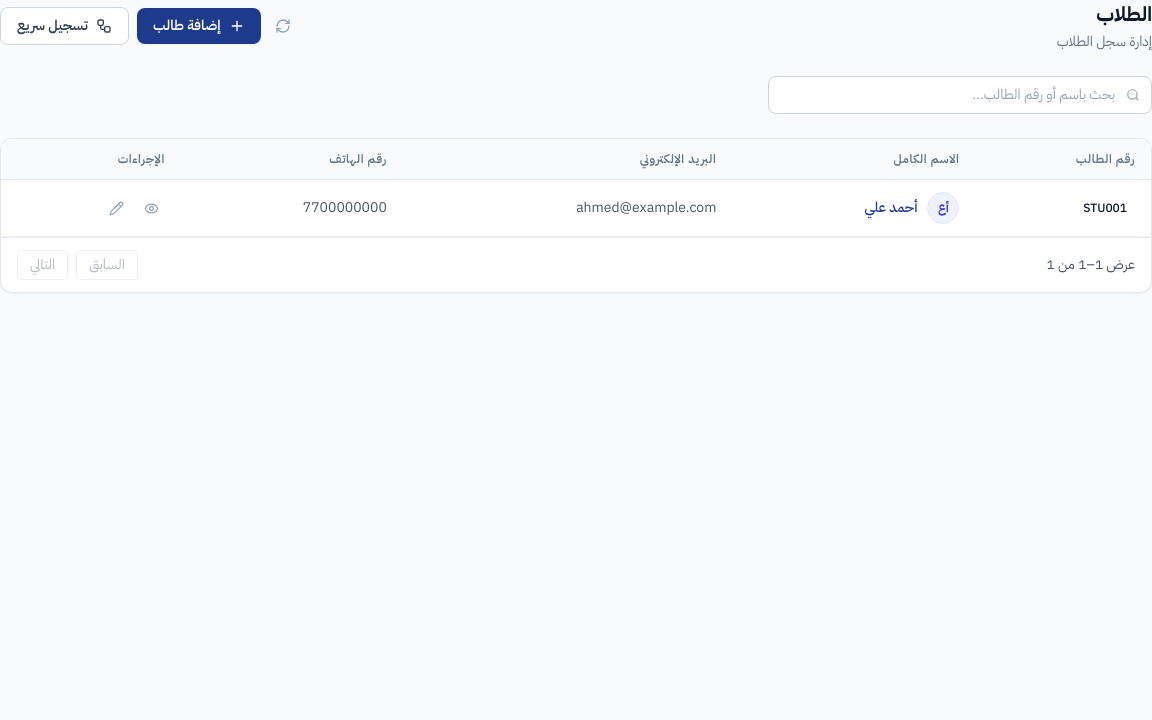
editing a student persists parent information › prefills the parent fields from the student row
This screenshot has width=1152, height=720.
What coordinates should you click on to do the following:
click the button titled "تعديل"
I would click on:
 (116, 208)
Its box is [103,194,130,222].
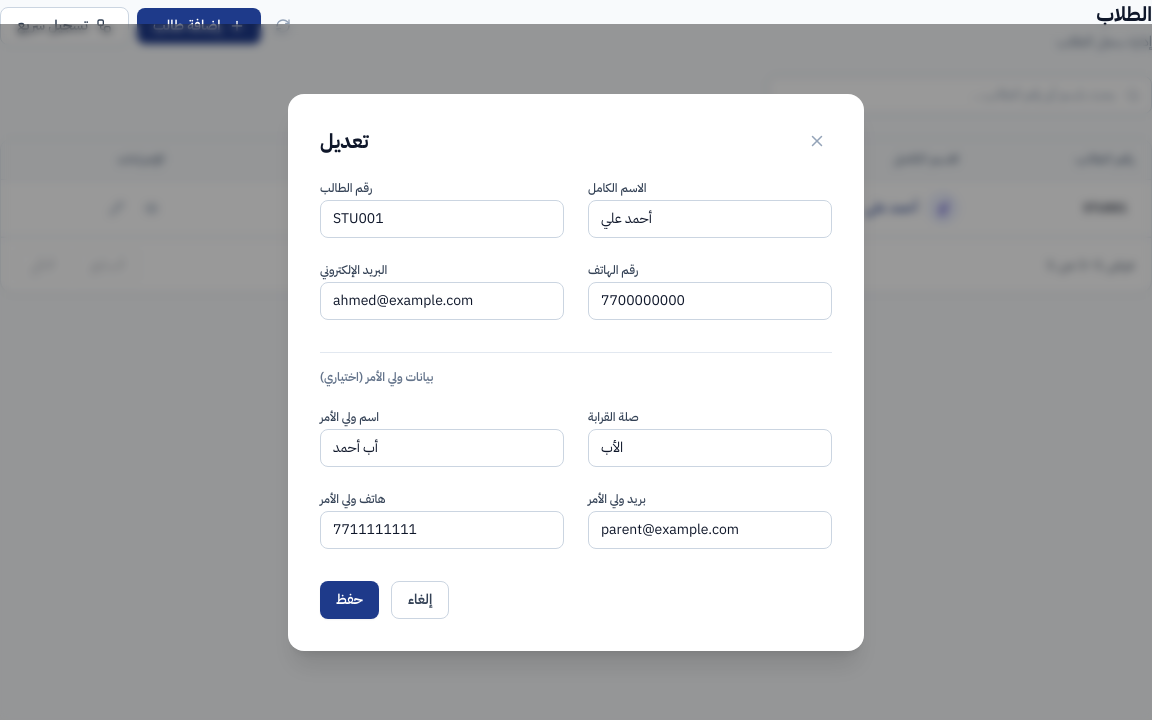
Expected: the field below "اسم ولي الأمر" holds "أب أحمد", [320,428,564,466]
Expected: the field below "هاتف ولي الأمر" holds "7711111111", [320,510,564,548]
Expected: the field below "بريد ولي الأمر" holds "parent@example.com", [588,510,832,548]
